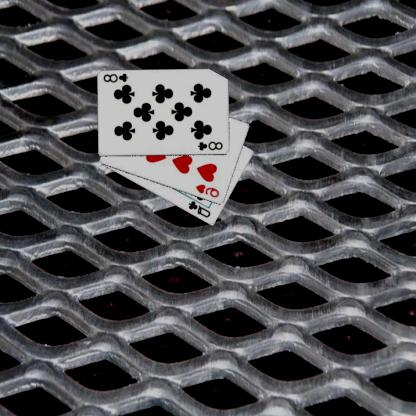8C: (103, 71, 131, 84), (198, 140, 226, 152)
9H: (195, 182, 223, 199)
QC: (188, 199, 213, 219)
